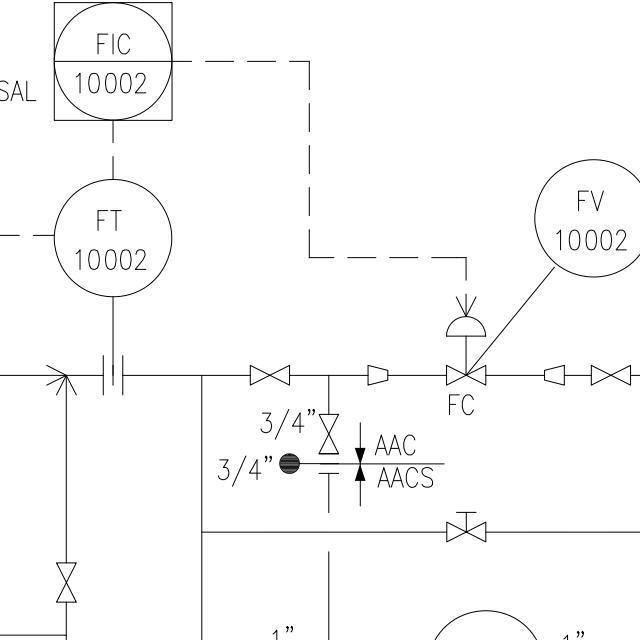FC: (442, 313, 489, 385)
GV: (50, 557, 80, 611), (586, 359, 633, 388), (245, 360, 296, 386), (315, 410, 343, 457)
HV: (440, 503, 492, 549)
SP: (362, 359, 393, 389), (542, 360, 570, 388)
